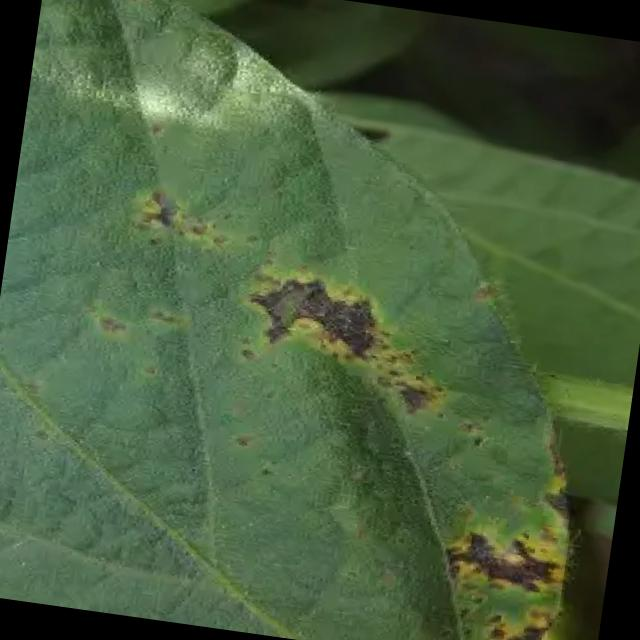leaf_spot: (0, 0, 569, 640)
